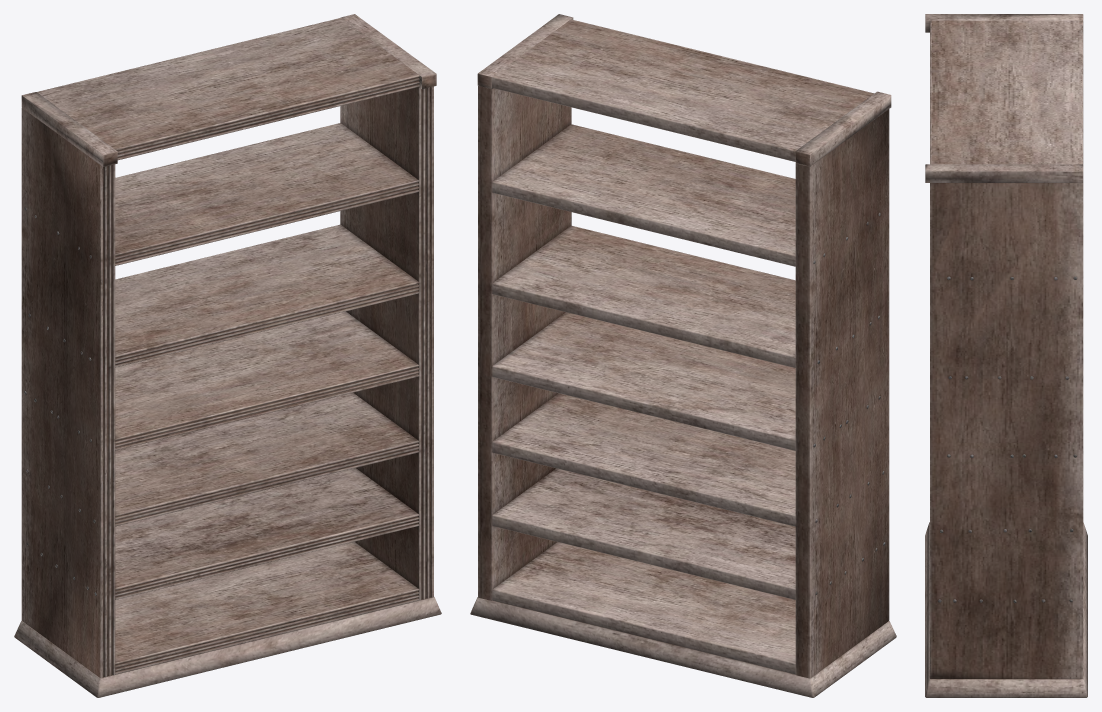
Rendered from wooden_bookshelf_worn.glb.
3 renders of one model, left to right at view 1: azimuth 30°, elevation 25°; view 2: azimuth 150°, elevation 25°; view 3: azimuth 270°, elevation 25°, orthographic. The views are drawn at different scales.
Parts seen in each view (by area): view 1: wooden_bookshelf_worn; view 2: wooden_bookshelf_worn; view 3: wooden_bookshelf_worn.
Boxes of the visible parts, bbox=[...] form: wooden_bookshelf_worn: bbox=[14, 14, 441, 697]; wooden_bookshelf_worn: bbox=[470, 14, 896, 697]; wooden_bookshelf_worn: bbox=[925, 14, 1087, 697].
Size of the model in its own units: 1.37 by 2.06 by 0.5813.
1 material, 1 textured.
